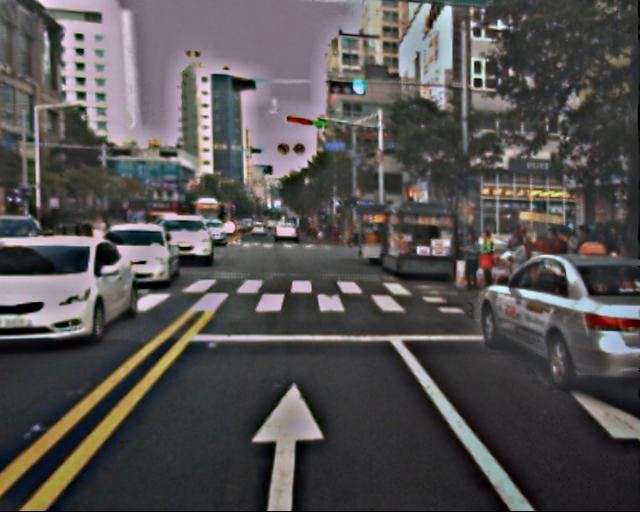person: (563, 225, 600, 305), (537, 229, 569, 305), (502, 237, 532, 309), (473, 233, 500, 299), (459, 231, 484, 293)
